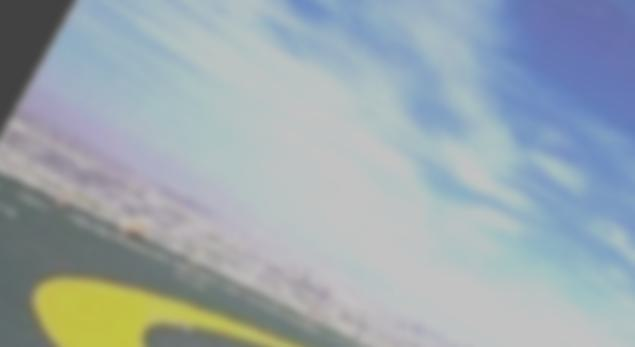Apron: (22, 247, 396, 347)
